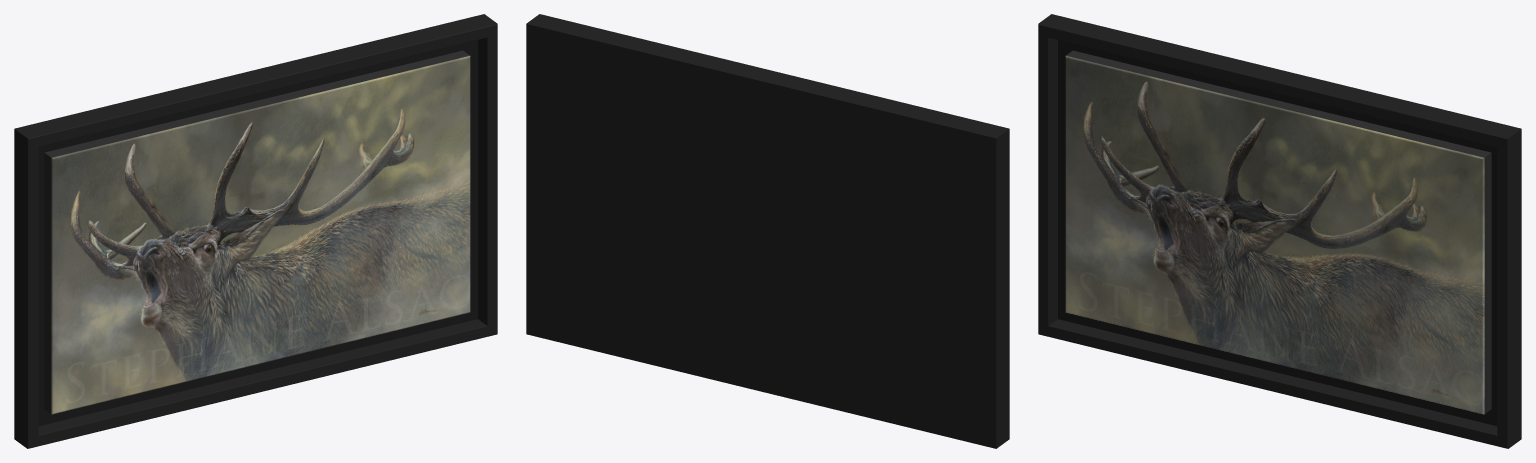
File: peinture-brame-cerf-classique-44de951c.glb
3 renders of one model, left to right at view 1: azimuth 30°, elevation 25°; view 2: azimuth 150°, elevation 25°; view 3: azimuth 330°, elevation 25°, orthographic.
Visible parts, largest first — view 1: Painting; view 2: Painting; view 3: Painting.
Part boxes in pixels (x1,y1,x2,y2): Painting: (14, 14, 497, 448); Painting: (526, 14, 1009, 448); Painting: (1038, 14, 1521, 448).
Size of the model in its own units: 0.786 by 0.496 by 0.04.
Materials: 4 (2 with a texture image).
